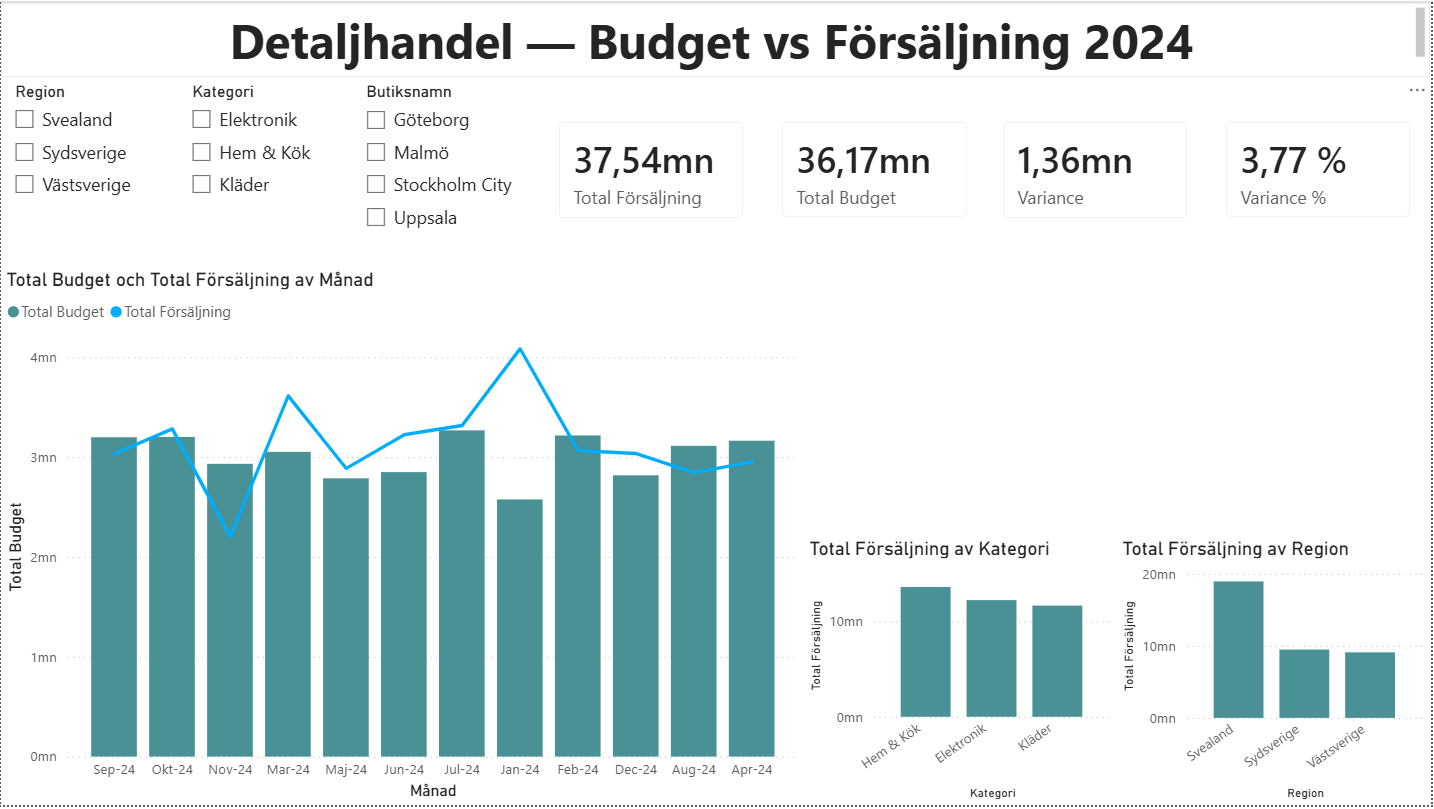

What the dashboard file says about the page in this screenshot:
{"tool":"powerbi","page":{"name":"Sida 1","canvas":[1280,720],"ordinal":0},"visuals":[{"type":"cardVisual","fields":{"Data":["Mätningar.Total Försäljning"]},"box":[482.7,91.3,199.7,120],"z":0},{"type":"cardVisual","fields":{"Data":["Budget_2024 (2).Variance"]},"box":[880.3,91.3,199.7,120],"z":1},{"type":"cardVisual","fields":{"Data":["Budget_2024 (2).Variance %"]},"box":[1080,91.3,199.7,119.1],"z":2},{"type":"cardVisual","fields":{"Data":["Budget_2024 (2).Total Budget"]},"box":[682.4,91.3,200.6,119.1],"z":3},{"type":"lineStackedColumnComboChart","fields":{"Category":["Calendar.Månad"],"Y":["Budget_2024 (2).Total Budget"],"Y2":["Mätningar.Total Försäljning"]},"box":[0,239.1,719.1,480.9],"z":4},{"type":"clusteredColumnChart","fields":{"Category":["Butiksinformation (2).Region"],"Y":["Mätningar.Total Försäljning"]},"box":[999.3,480,280,240],"z":5},{"type":"clusteredColumnChart","fields":{"Category":["Försäljning_2024 (2).Kategori "],"Y":["Mätningar.Total Försäljning"]},"box":[719.1,480,280.3,240],"z":6},{"type":"slicer","fields":{"Values":["Butiksinformation (2).Butiksnamn"]},"box":[314.3,68.1,153.1,143.3],"z":7},{"type":"textbox","box":[0,0.9,1279.7,67.2],"z":8},{"type":"slicer","fields":{"Values":["Butiksinformation (2).Region"]},"box":[0,68.1,158.5,121.8],"z":9},{"type":"slicer","fields":{"Values":["Försäljning_2024 (2).Kategori "]},"box":[158.5,68.1,155.8,115.5],"z":10}]}

Visuals, with their boxes in screenshot pixels (x1, y1, x2, y2), scaled from the page's 1280x720 canvas onto the 1434x809 screenshot:
cardVisual - Mätningar.Total Försäljning: select_region(541, 103, 765, 237)
cardVisual - Budget_2024 (2).Variance: select_region(986, 103, 1210, 237)
cardVisual - Budget_2024 (2).Variance %: select_region(1210, 103, 1433, 236)
cardVisual - Budget_2024 (2).Total Budget: select_region(765, 103, 989, 236)
lineStackedColumnComboChart - Calendar.Månad x Budget_2024 (2).Total Budget: select_region(0, 269, 806, 808)
clusteredColumnChart - Butiksinformation (2).Region x Mätningar.Total Försäljning: select_region(1120, 539, 1433, 808)
clusteredColumnChart - Försäljning_2024 (2).Kategori  x Mätningar.Total Försäljning: select_region(806, 539, 1120, 808)
slicer - Butiksinformation (2).Butiksnamn: select_region(352, 77, 524, 238)
textbox: select_region(0, 1, 1433, 77)
slicer - Butiksinformation (2).Region: select_region(0, 77, 178, 213)
slicer - Försäljning_2024 (2).Kategori : select_region(178, 77, 352, 206)
